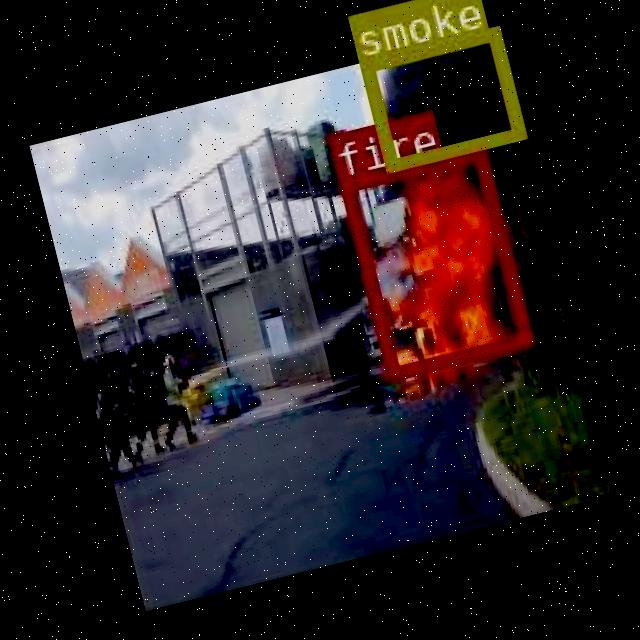fire: (336, 144, 530, 379)
smoke: (356, 26, 522, 169)
